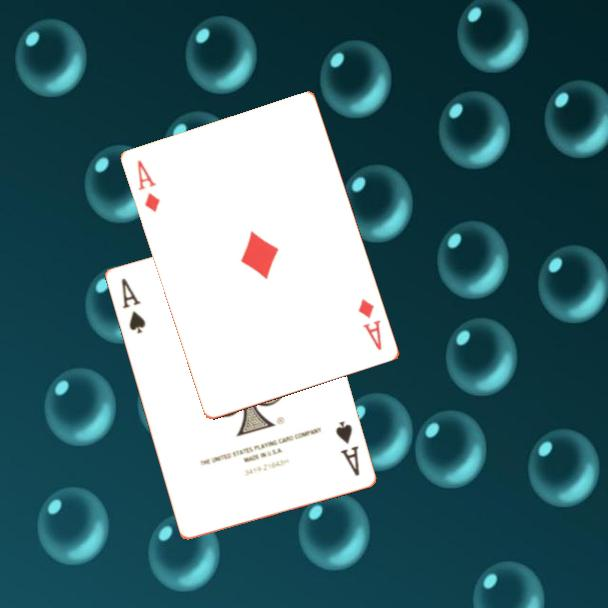d01: (355, 295, 385, 354), (134, 157, 163, 215)
s01: (117, 274, 148, 336), (332, 417, 362, 479)
